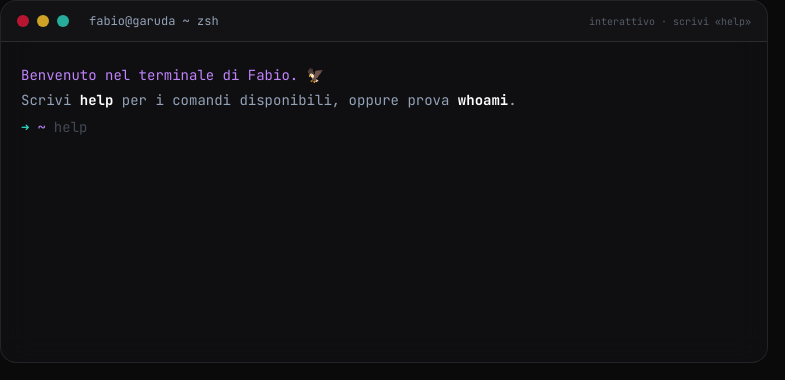
Scenario: Terminal interattivo › un comando sconosciuto suggerisce help
In the field named "Terminale interattivo": (400, 127) 54,116 -> 747,138, type "xyzzy"
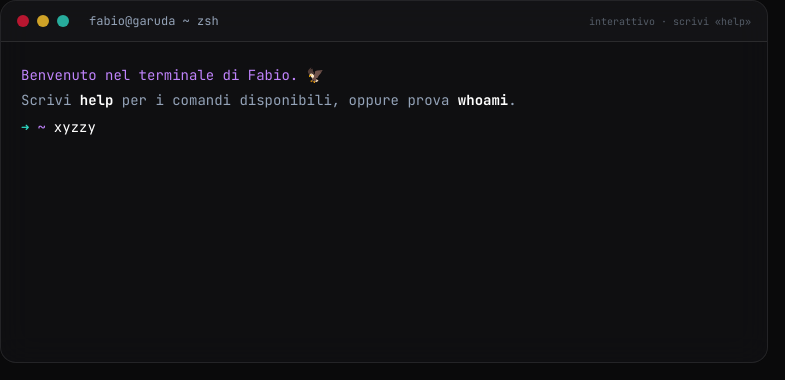
Press Enter in the field named "Terminale interattivo", box 54,116 -> 747,138
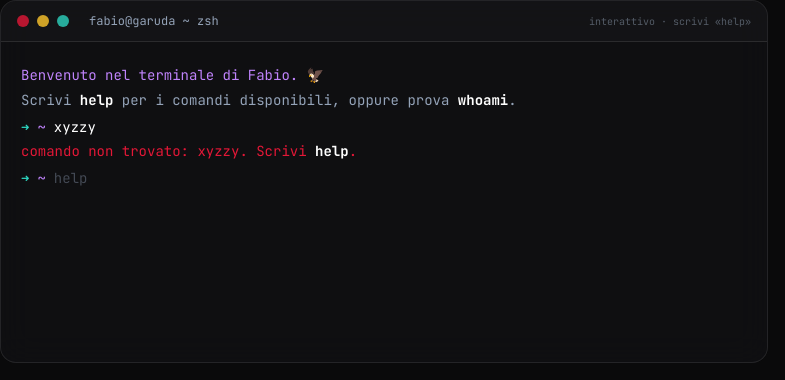
Expected: the text "comando non trovato: xyzzy. Scrivi help." is shown, 21,142 -> 357,160
